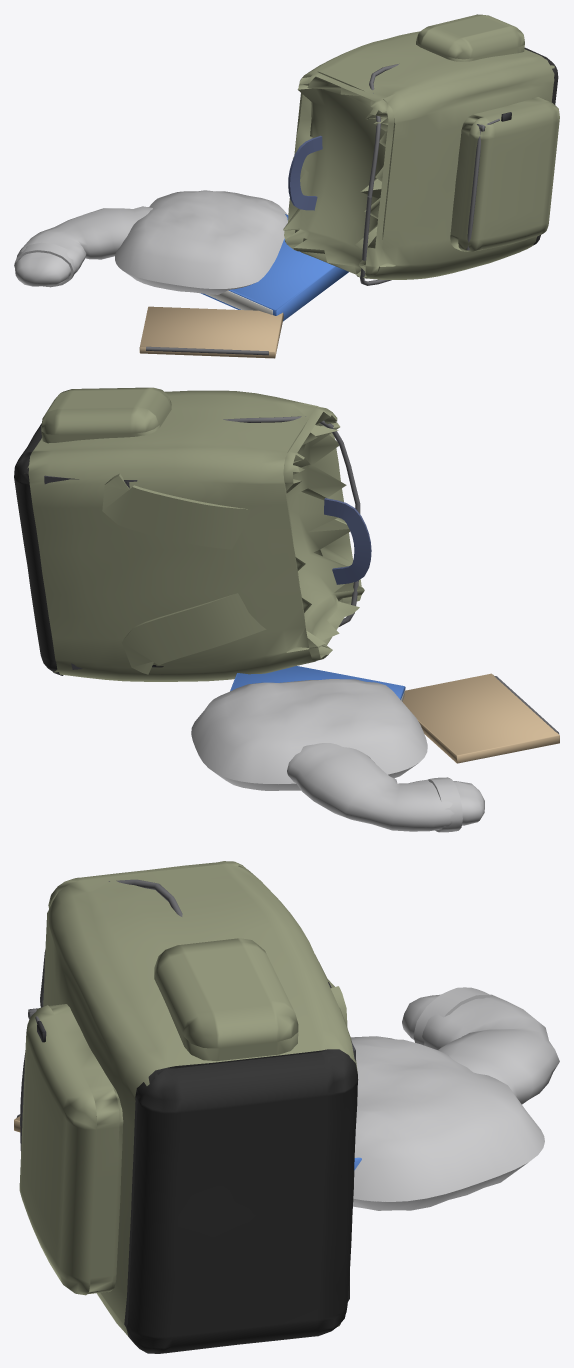
File: textiles_backpack_open_spilled.fbx
The picture shows the model from 3 angles, top to bottom: view 1: azimuth 30°, elevation 25°; view 2: azimuth 150°, elevation 25°; view 3: azimuth 270°, elevation 25°; orthographic projection. The views are drawn at different scales.
Parts seen in each view (by area): view 1: textiles_backpack_open_spilled; view 2: textiles_backpack_open_spilled; view 3: textiles_backpack_open_spilled.
Boxes of the visible parts, box(x1,y1,x2,y2) form: textiles_backpack_open_spilled: box(14, 14, 559, 358); textiles_backpack_open_spilled: box(14, 387, 559, 832); textiles_backpack_open_spilled: box(14, 861, 559, 1353).
Bounding box in the file's own units: 0.806 × 0.3918 × 0.51.
